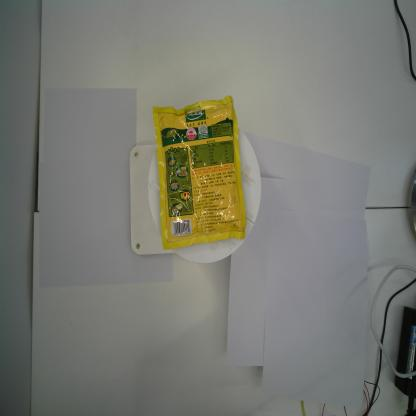Seasoner: (152, 95, 248, 250)
